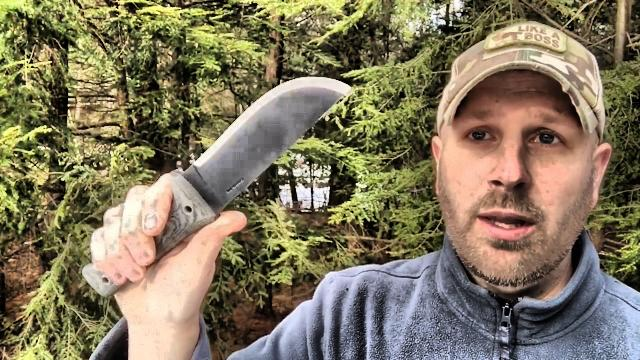knife: (114, 62, 362, 290)
